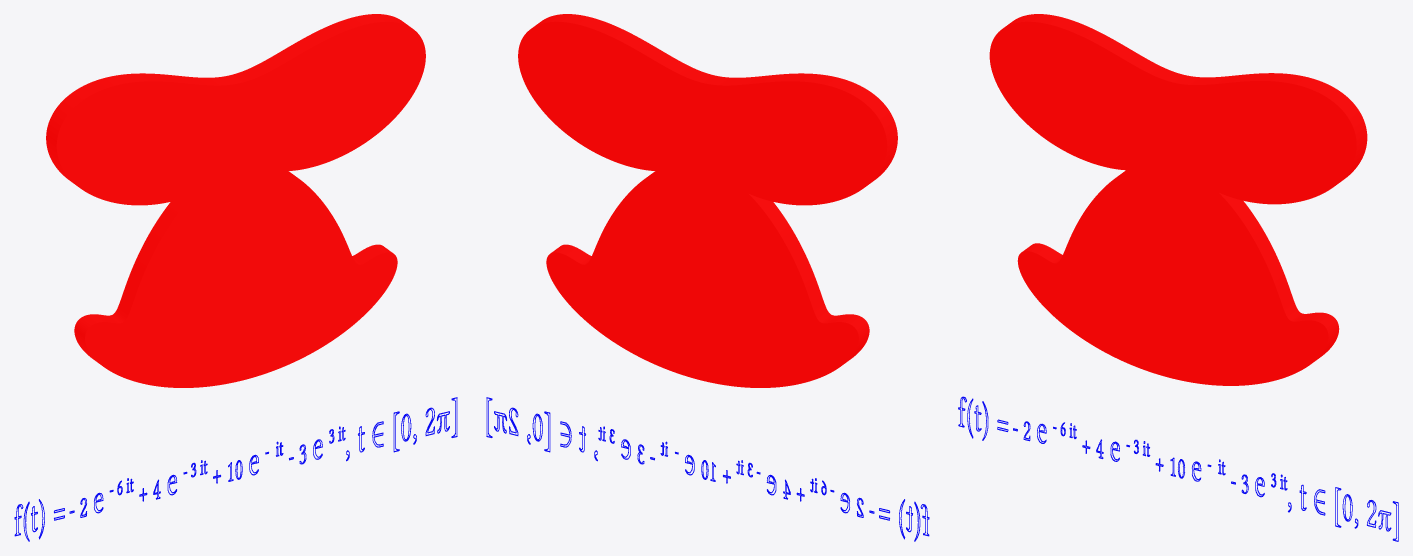
File: Bell.glb
3 views of the same model, side by side, from view 1: azimuth 30°, elevation 25°; view 2: azimuth 150°, elevation 25°; view 3: azimuth 330°, elevation 25° (orthographic).
Size of the model in its own units: 1.2 by 1.14 by 0.05.
